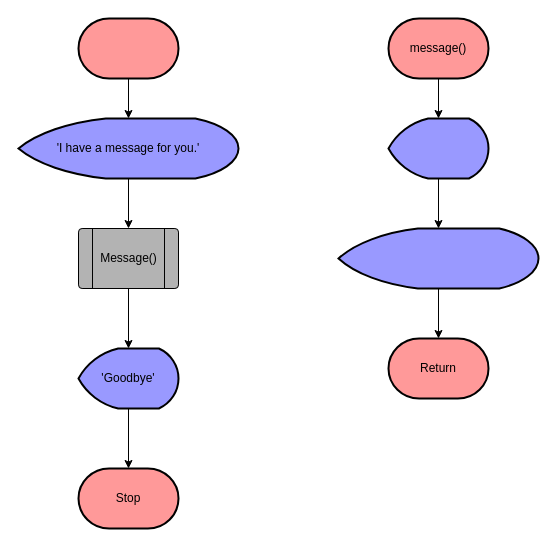
This 556x546 diagram has some shape labels left out. The shapes that lost their labels are listed below. From the top down, each one's centre as x and y in pixels, then its label:
(x=128, y=48): Start
(x=438, y=148): 'I am Arthur'
(x=438, y=258): 'King of the Briton'
